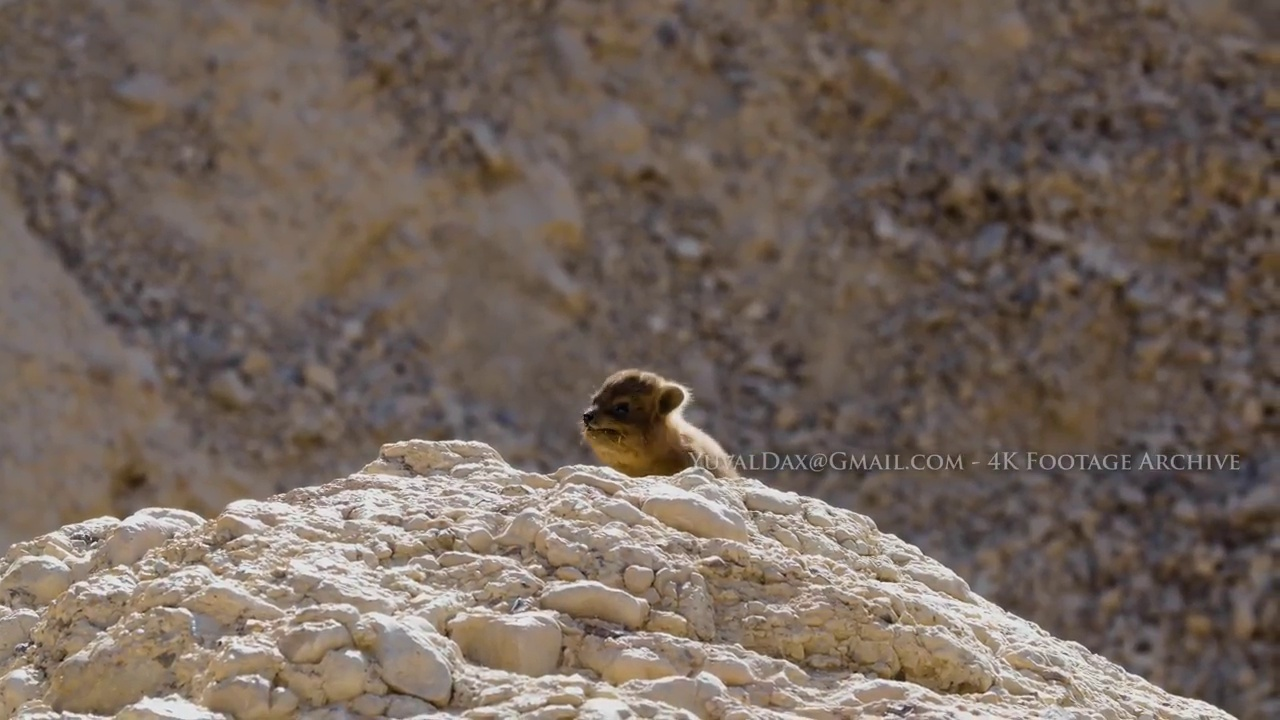Rock Hyrex: (578, 370, 744, 480)
